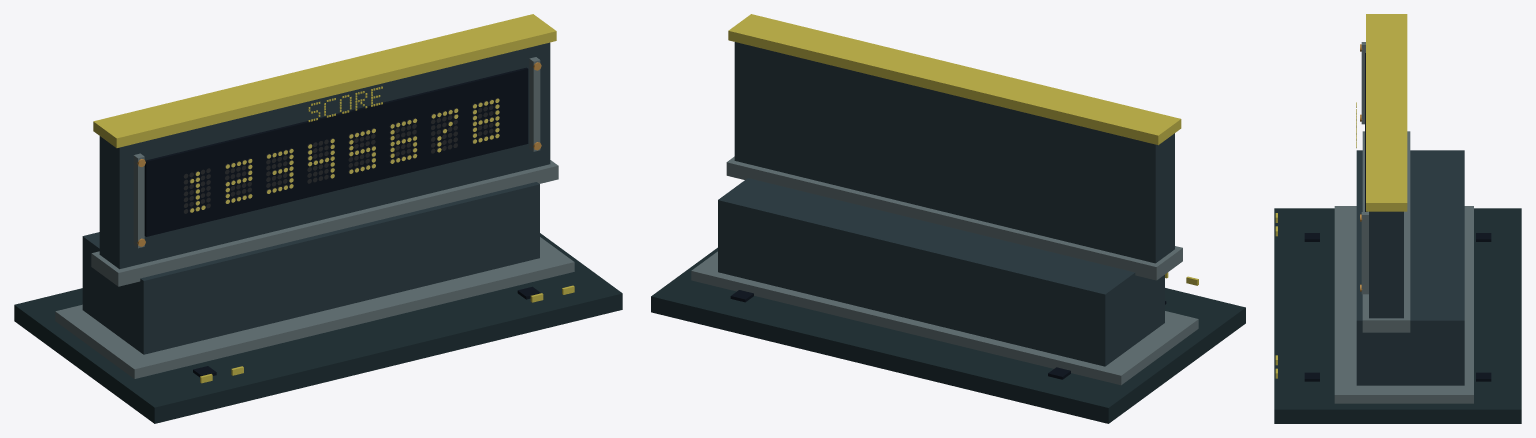
Rendered from flipdot_scoreboard_d0_lod0.meshopt.glb.
3 renders of one model, left to right at view 1: azimuth 30°, elevation 25°; view 2: azimuth 150°, elevation 25°; view 3: azimuth 270°, elevation 25°, orthographic. The views are drawn at different scales.
Visible parts, largest first — view 1: SCOREBOARD_STRUCTURE, SCORE_STATIC_DIGITS; view 2: SCOREBOARD_STRUCTURE; view 3: SCOREBOARD_STRUCTURE.
Boxes of the visible parts, x1,y1,x2,y2 form: SCOREBOARD_STRUCTURE: [14, 14, 622, 423]; SCORE_STATIC_DIGITS: [190, 98, 499, 212]; SCOREBOARD_STRUCTURE: [651, 14, 1245, 423]; SCOREBOARD_STRUCTURE: [1274, 14, 1521, 423].
Bounding box in the file's own units: 7.5 × 3.73 × 3.9.
